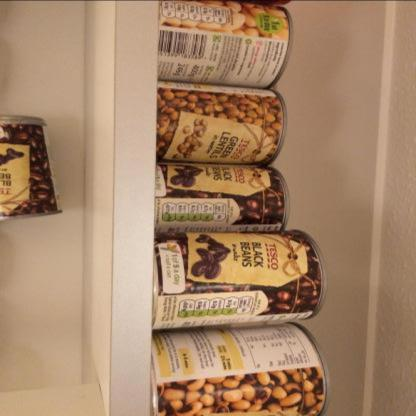Can: (152, 229, 328, 330), (150, 320, 331, 416), (157, 0, 294, 88), (156, 80, 288, 166), (155, 164, 290, 232), (1, 115, 63, 222)
